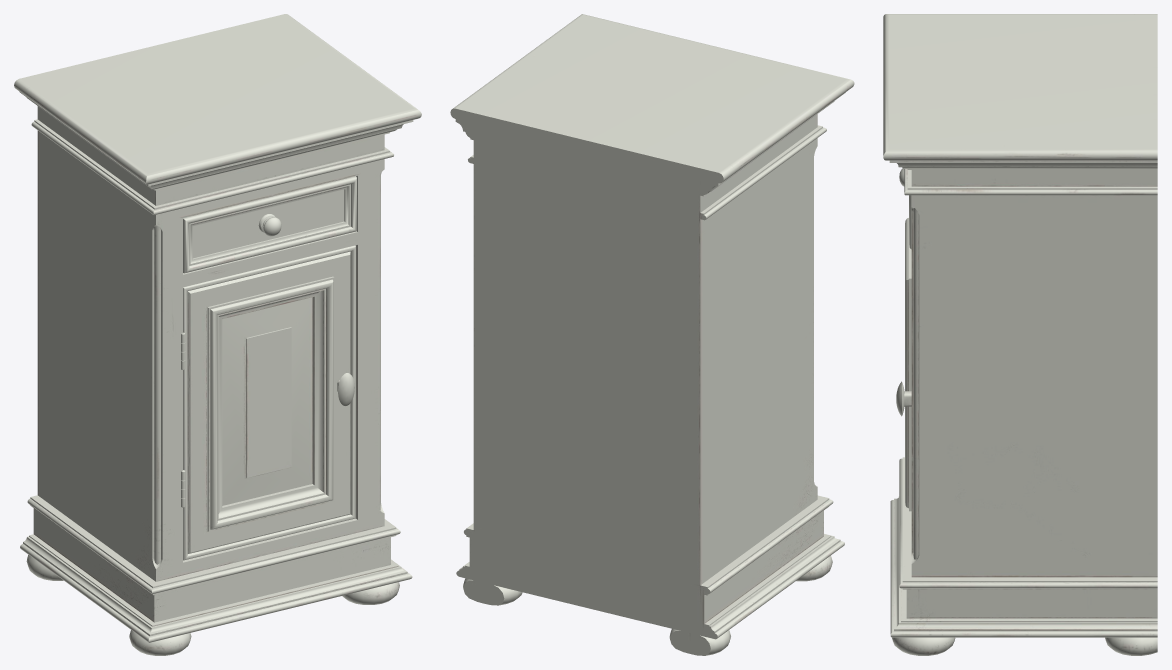
Rendered from example166.glb.
The picture shows the model from 3 angles, left to right: view 1: azimuth 30°, elevation 25°; view 2: azimuth 150°, elevation 25°; view 3: azimuth 270°, elevation 25°; orthographic projection. The views are drawn at different scales.
Parts seen in each view (by area): view 1: Buffer Layer; view 2: Buffer Layer; view 3: Buffer Layer.
Boxes of the visible parts, x1,y1,x2,y2 form: Buffer Layer: (14,14,421,655); Buffer Layer: (450,14,854,655); Buffer Layer: (883,14,1157,655).
Size of the model in its own units: 0.492 by 0.84 by 0.408.
1 material, 1 textured.
